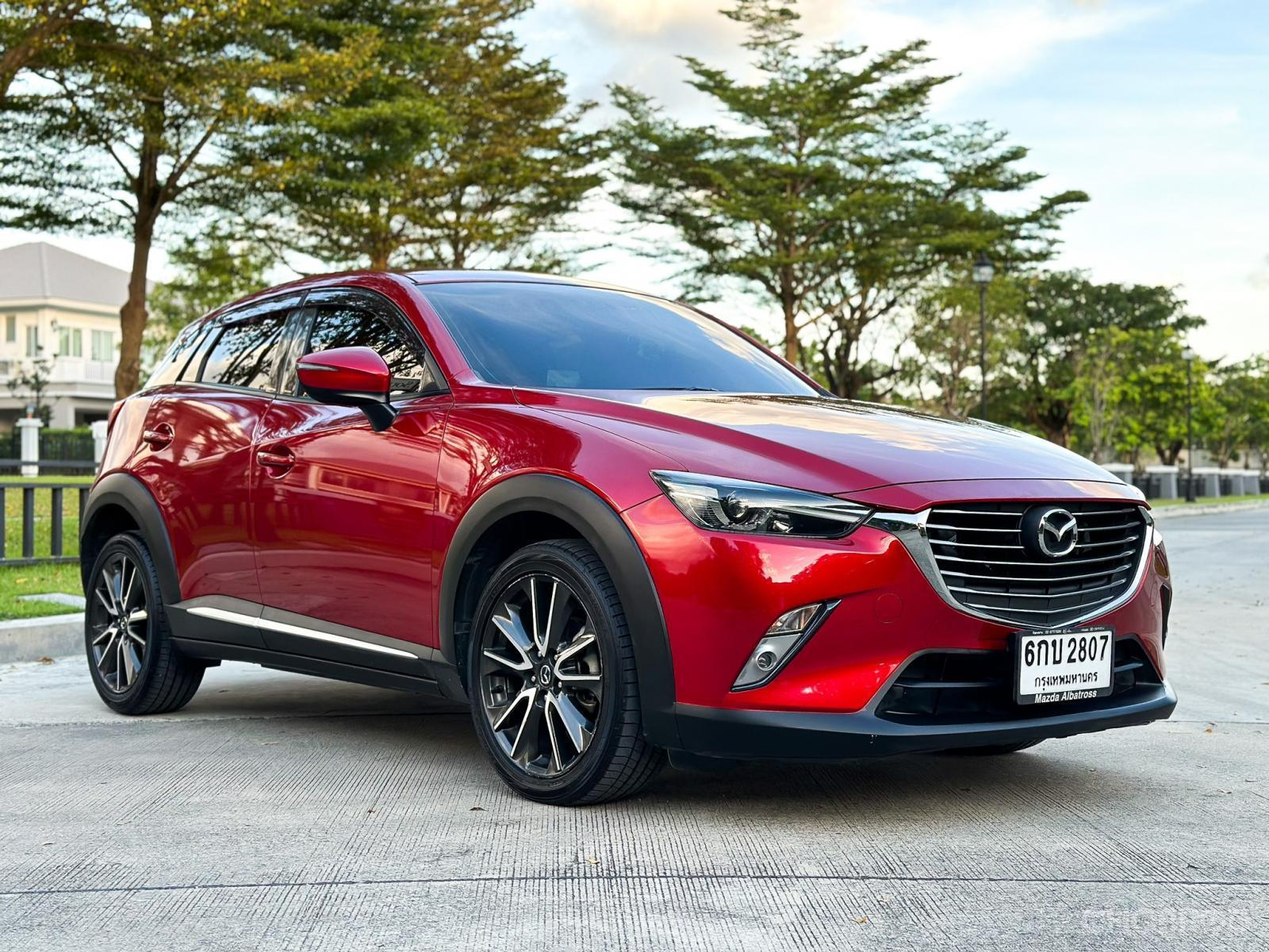license-plate: (1013, 621, 1120, 707)
